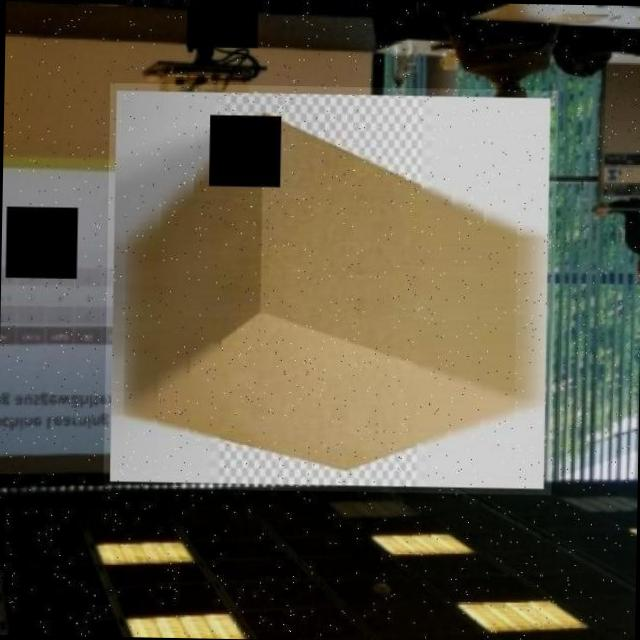box: (103, 82, 558, 495)
